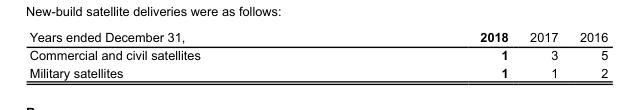table: (28, 29, 607, 79)
table column: (28, 29, 339, 79), (339, 29, 518, 79), (518, 29, 568, 79), (568, 29, 607, 79)
table column header: (28, 29, 607, 45)
table row: (28, 45, 607, 63), (28, 29, 607, 45), (28, 63, 607, 79)
